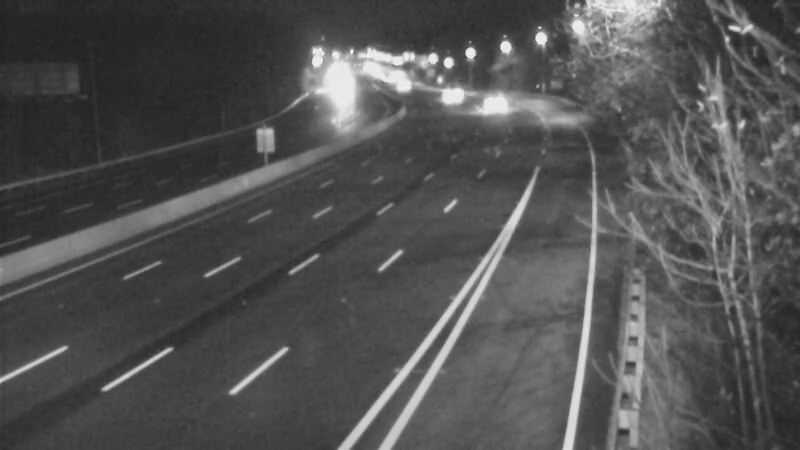vehicle: (377, 61, 427, 111), (418, 70, 468, 120), (466, 82, 516, 132)
